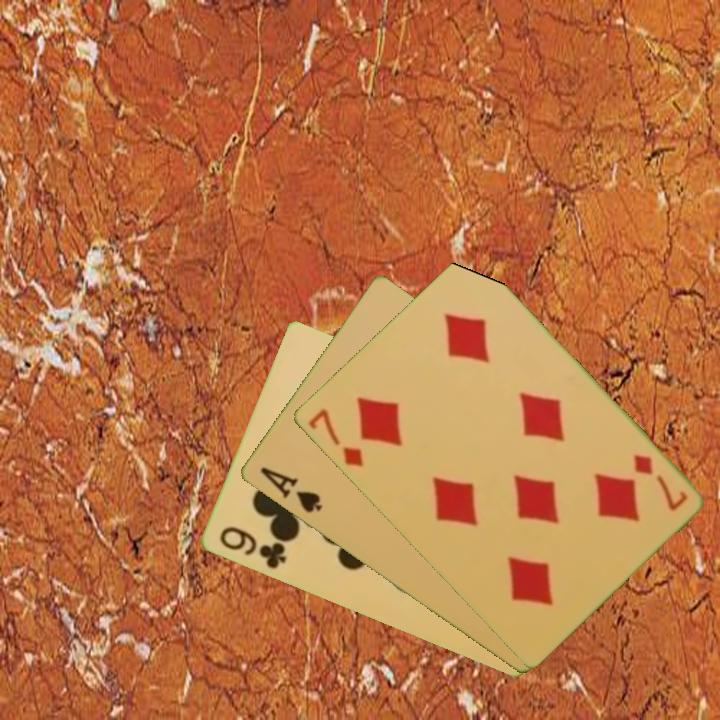7d: (304, 405, 366, 470), (629, 450, 690, 514)
9c: (215, 523, 289, 572)
As: (256, 463, 325, 516)
